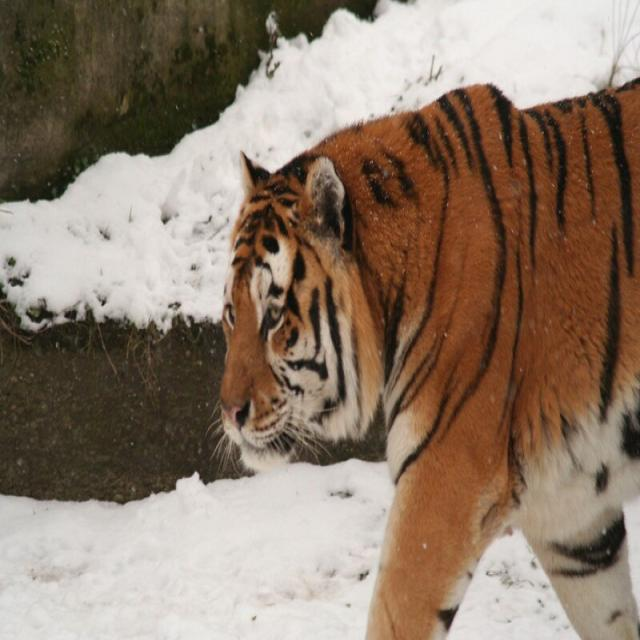Tiger: (215, 70, 638, 638)
